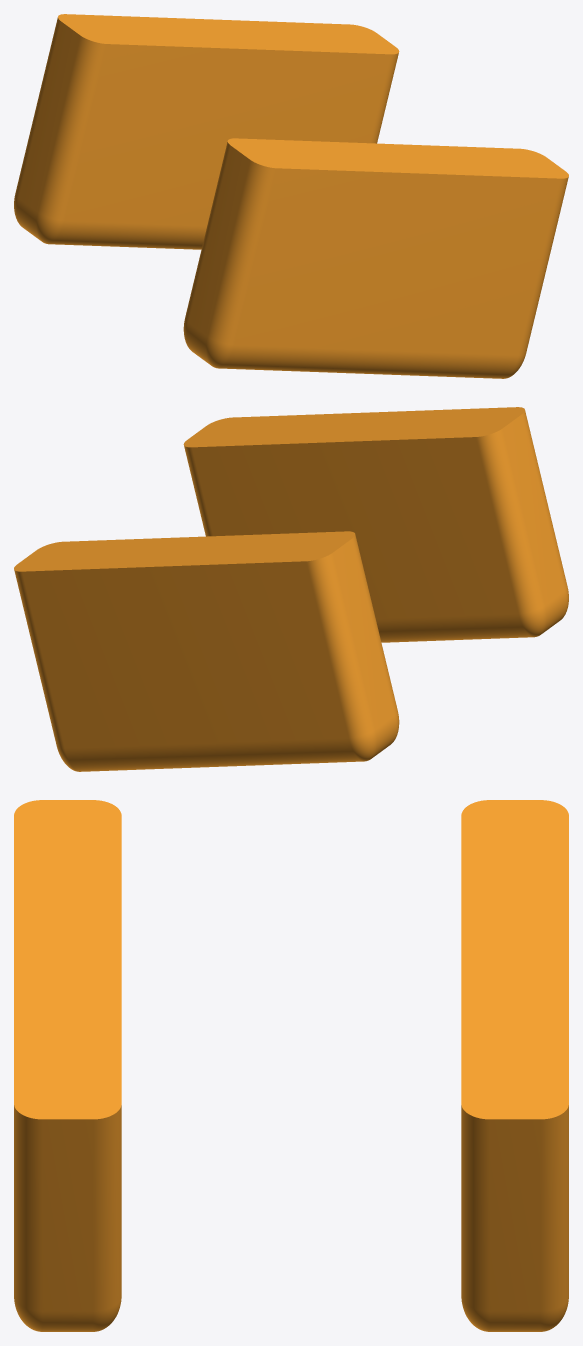
Rendered from Obstacle-tunnel2.glb.
3 views of the same model, one above another, from view 1: azimuth 30°, elevation 25°; view 2: azimuth 150°, elevation 25°; view 3: azimuth 270°, elevation 25° (orthographic). The views are drawn at different scales.
Visible parts, largest first — view 1: Cube_8_3_Mat.12_0, Cube_11_5_Mat.12_0; view 2: Cube_11_5_Mat.12_0, Cube_8_3_Mat.12_0; view 3: Cube_11_5_Mat.12_0, Cube_8_3_Mat.12_0.
Boxes of the visible parts, x1,y1,x2,y2 form: Cube_8_3_Mat.12_0: (183,138,568,378); Cube_11_5_Mat.12_0: (14,14,399,249); Cube_11_5_Mat.12_0: (14,531,399,771); Cube_8_3_Mat.12_0: (183,407,568,642); Cube_11_5_Mat.12_0: (461,800,568,1331); Cube_8_3_Mat.12_0: (14,800,121,1331).
Size of the model in its own units: 0.3654 by 0.2712 by 0.3706.
